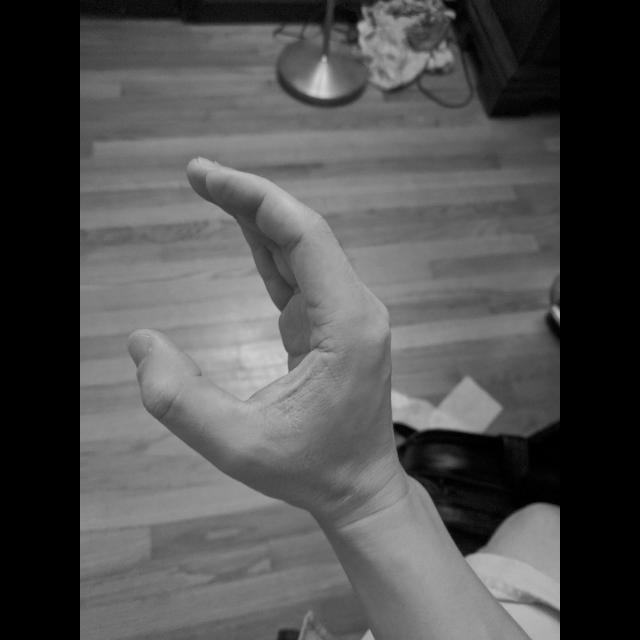C: (120, 149, 396, 509)
